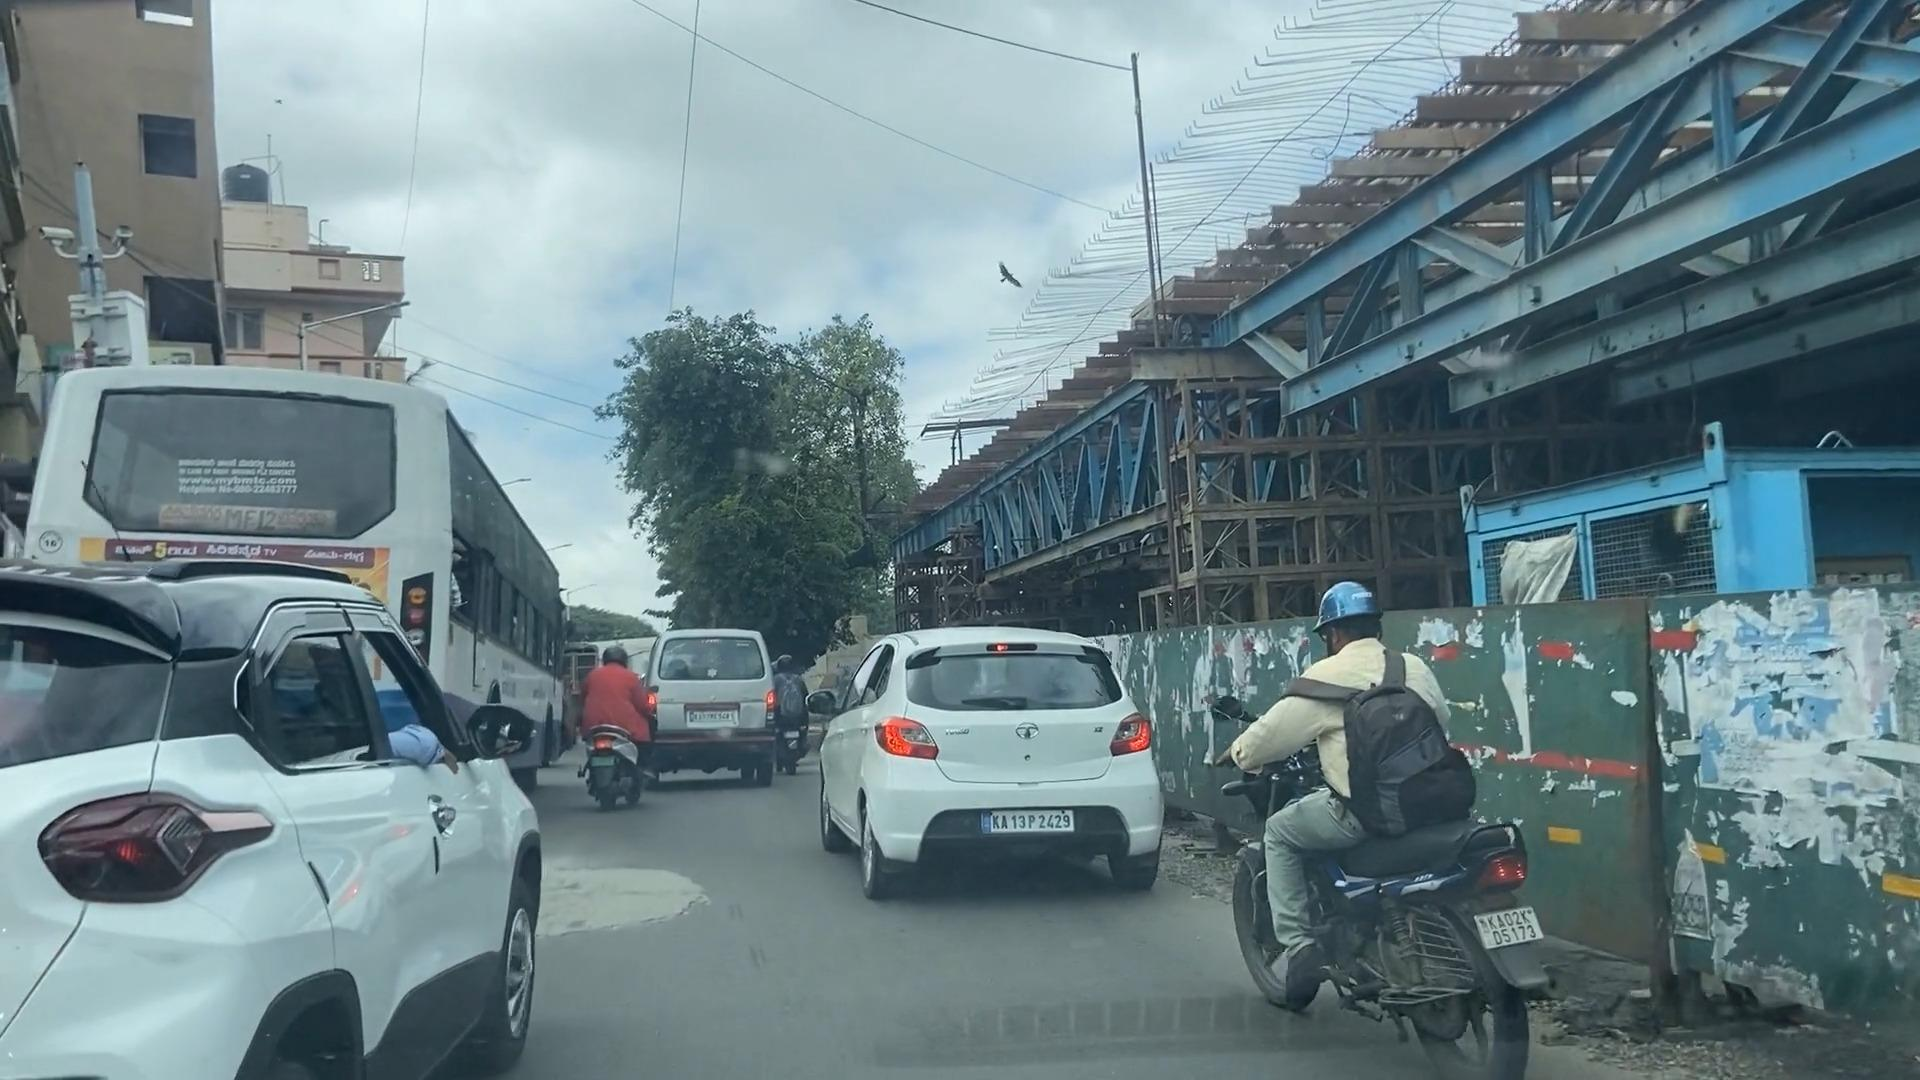LMV: (1259, 600, 1538, 1063), (866, 632, 1156, 902), (650, 636, 767, 786), (588, 642, 645, 810)
RoadDamages: (547, 862, 700, 924)
